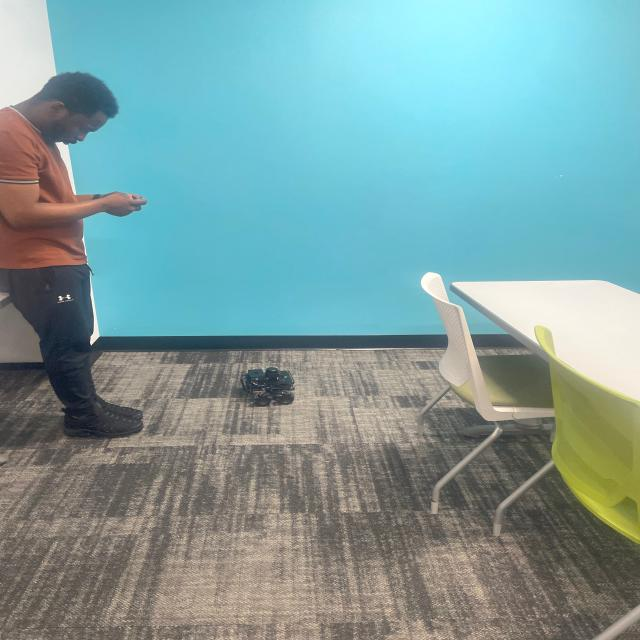ArduinoCar3: (241, 364, 297, 409)
